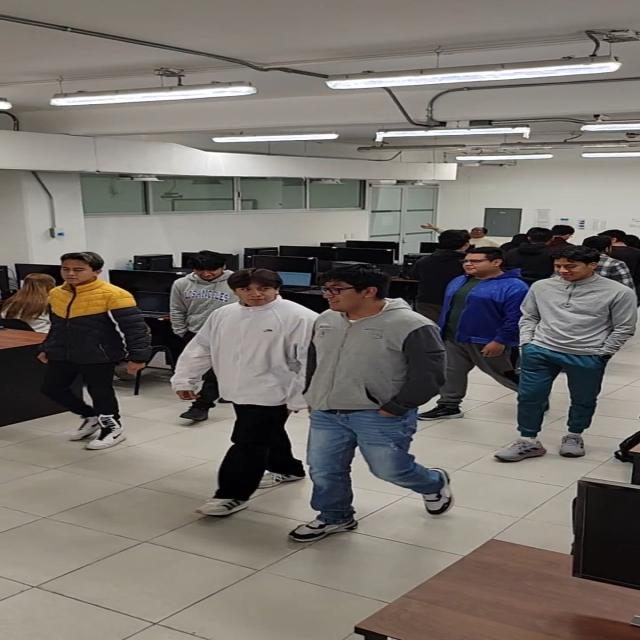Persona: (284, 264, 456, 543), (169, 266, 321, 519), (493, 245, 640, 464), (34, 250, 158, 452), (413, 245, 552, 422), (170, 250, 250, 422), (498, 226, 570, 282), (578, 235, 640, 292), (598, 228, 640, 310), (551, 224, 575, 251)
